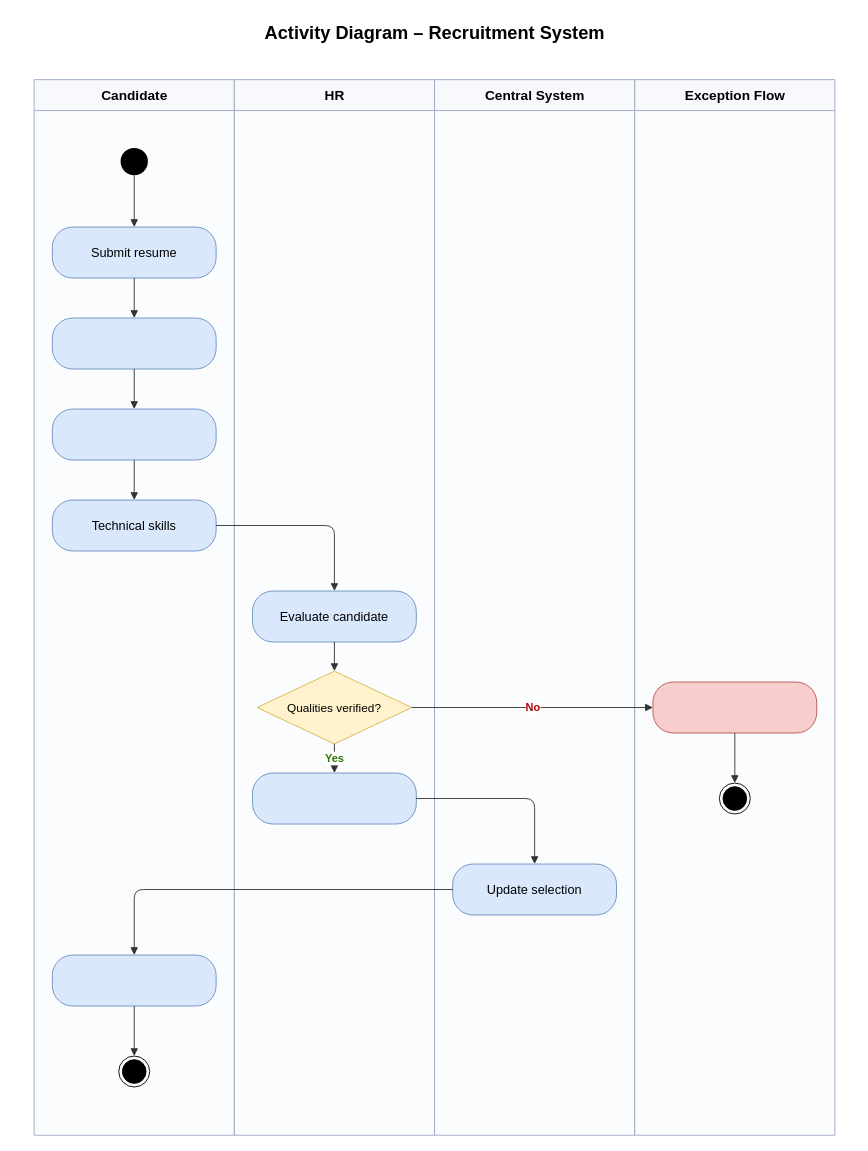
This 868x1151 diagram has some shape labels left out. The shapes that lost their labels are listed below. From the top down, each one's centre as x and y in pixels, then its label:
At (133,343): "Aptitude".
At (133,434): "Group discussion".
At (734,707): "Reject candidate".
At (334,798): "HR interview".
At (133,980): "Receive result".
